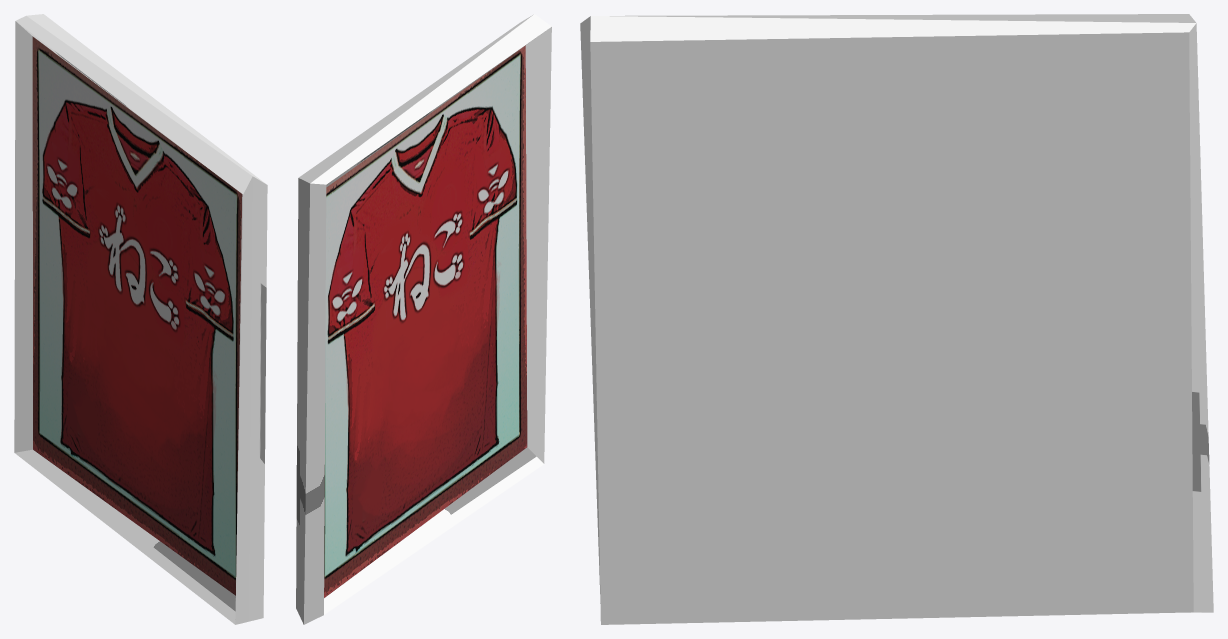
File: redShirtframed.FBX
The picture shows the model from 3 angles, left to right: view 1: azimuth 30°, elevation 25°; view 2: azimuth 150°, elevation 25°; view 3: azimuth 270°, elevation 25°; orthographic projection. The views are drawn at different scales.
Visible parts, largest first — view 1: frame_R005; view 2: frame_R005; view 3: frame_R005.
Part boxes in pixels (x1,y1,x2,y2): frame_R005: [14, 14, 267, 624]; frame_R005: [296, 14, 551, 624]; frame_R005: [580, 14, 1213, 624].
Bounding box in the file's own units: 3.92 × 58.08 × 55.63.
1 material, 1 textured.
